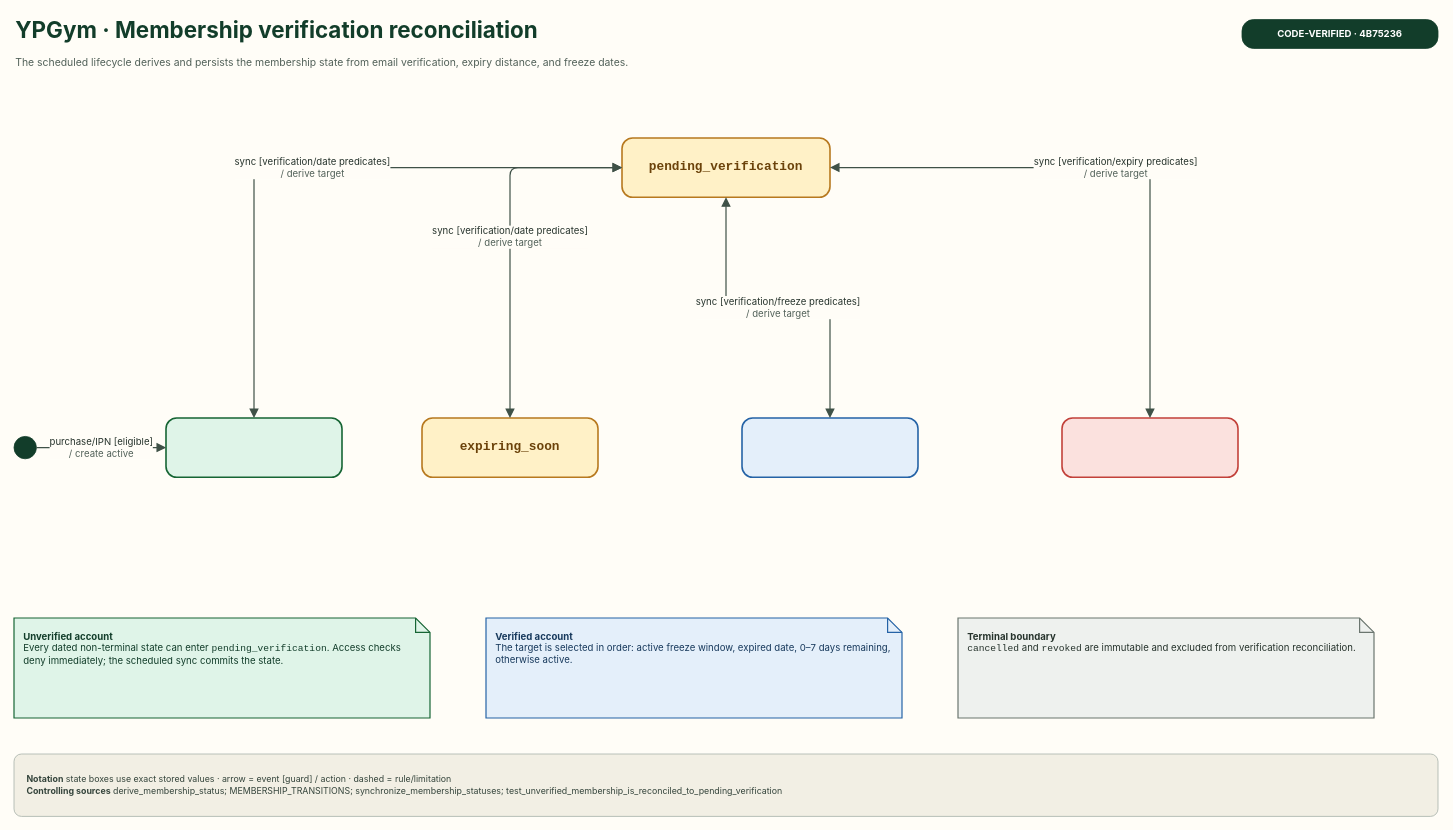
Some shapes in this 1453 by 830 pixel diagram are drawn without their labels. Here are the shapes that lost their labels. From the top down, the centre of each, then its label:
the point at 253,447: active
the point at 829,447: frozen
the point at 1149,447: expired
